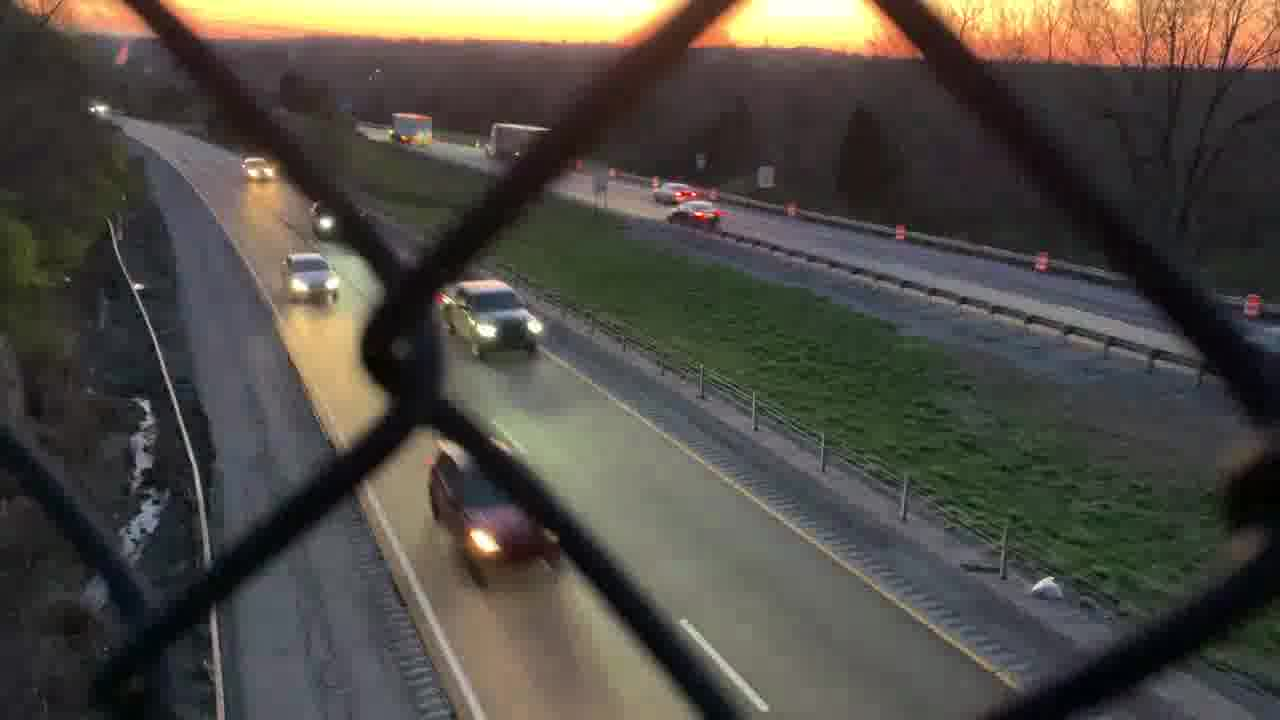heavyTruck: (482, 122, 556, 162), (384, 113, 442, 145)
lightTruck: (432, 275, 547, 362)
smallCar: (279, 253, 344, 300), (661, 202, 729, 228), (651, 178, 702, 207)
